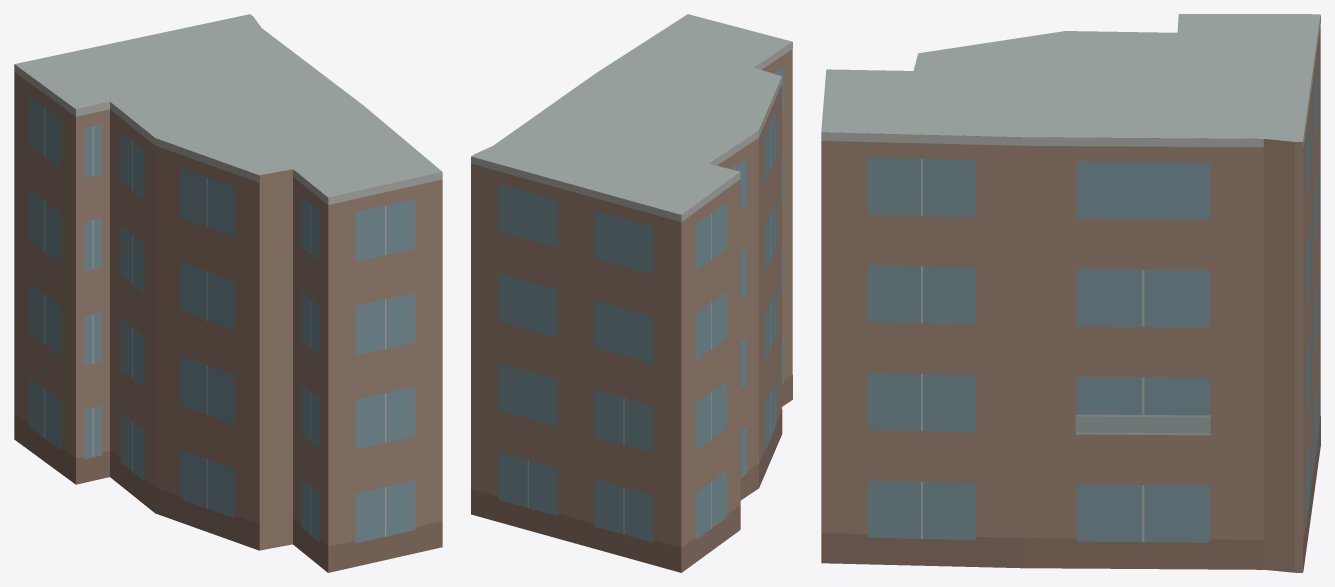
Rendered from survey-upis-32461983.glb.
The picture shows the model from 3 angles, left to right: view 1: azimuth 30°, elevation 25°; view 2: azimuth 150°, elevation 25°; view 3: azimuth 270°, elevation 25°; orthographic projection. The views are drawn at different scales.
Visible parts, largest first — view 1: survey-upis-32461983.tmp; view 2: survey-upis-32461983.tmp; view 3: survey-upis-32461983.tmp.
Boxes of the visible parts, left/top/right/bottom form: survey-upis-32461983.tmp: left=14, top=14, right=442, bottom=572; survey-upis-32461983.tmp: left=471, top=14, right=792, bottom=572; survey-upis-32461983.tmp: left=821, top=14, right=1320, bottom=572.
Bounding box in the file's own units: 7.78 × 12.2 × 12.83.
